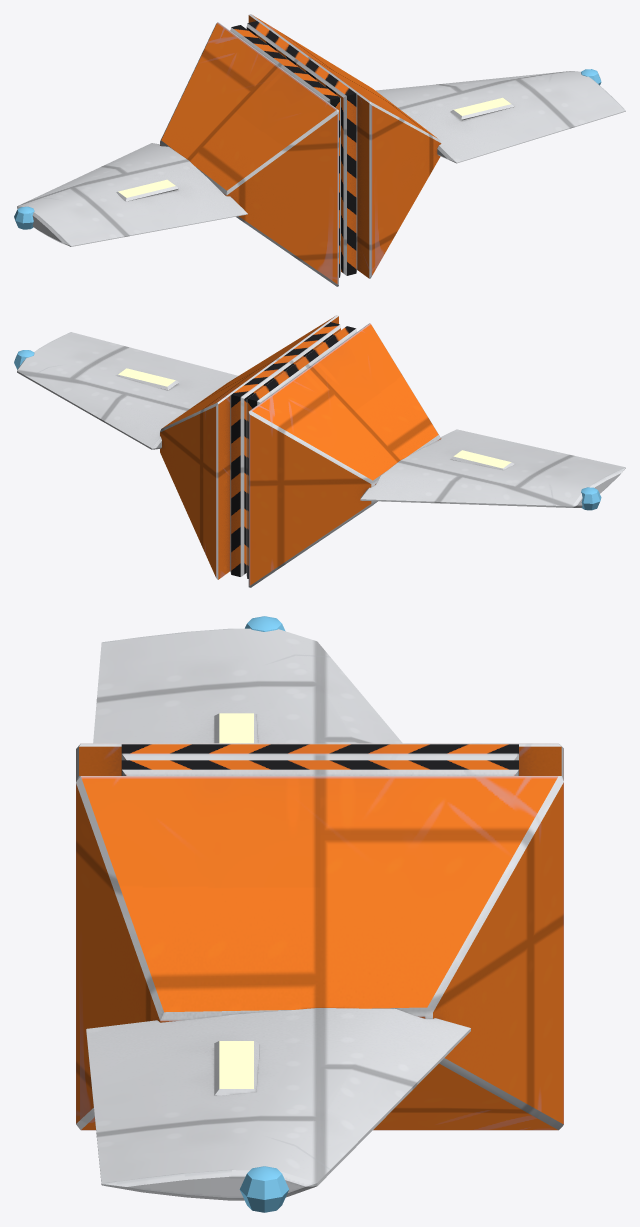
The model's file is ala_canard_t2.fbx.
3 views of the same model, one above another, from view 1: azimuth 30°, elevation 25°; view 2: azimuth 150°, elevation 25°; view 3: azimuth 270°, elevation 25° (orthographic). The views are drawn at different scales.
Visible parts, largest first — view 1: ala_canard_t2_izq, ala_canard_t2_der, ala_canard_t2_der_neon, ala_canard_t2_izq_neon, ala_canard_t2_izq_neon2; view 2: ala_canard_t2_izq, ala_canard_t2_der, ala_canard_t2_izq_neon, ala_canard_t2_der_neon, ala_canard_t2_izq_neon2; view 3: ala_canard_t2_der, ala_canard_t2_izq, ala_canard_t2_der_neon2, ala_canard_t2_der_neon, ala_canard_t2_izq_neon.
Boxes of the visible parts, x1=… form: ala_canard_t2_izq: x1=17, y1=22, x2=340, y2=286; ala_canard_t2_der: x1=246, y1=14, x2=625, y2=278; ala_canard_t2_der_neon: x1=453, y1=97, x2=510, y2=115; ala_canard_t2_izq_neon: x1=118, y1=179, x2=175, y2=197; ala_canard_t2_izq_neon2: x1=14, y1=206, x2=34, y2=229; ala_canard_t2_izq: x1=246, y1=323, x2=625, y2=587; ala_canard_t2_der: x1=17, y1=315, x2=340, y2=579; ala_canard_t2_izq_neon: x1=453, y1=450, x2=511, y2=468; ala_canard_t2_der_neon: x1=118, y1=368, x2=175, y2=386; ala_canard_t2_izq_neon2: x1=581, y1=487, x2=601, y2=510; ala_canard_t2_der: x1=76, y1=760, x2=563, y2=1200; ala_canard_t2_izq: x1=76, y1=628, x2=563, y2=781; ala_canard_t2_der_neon2: x1=239, y1=1166, x2=289, y2=1212; ala_canard_t2_der_neon: x1=219, y1=1041, x2=253, y2=1088; ala_canard_t2_izq_neon: x1=219, y1=713, x2=253, y2=743.
Bounding box in the file's own units: 5.44 × 1.6 × 1.97.
